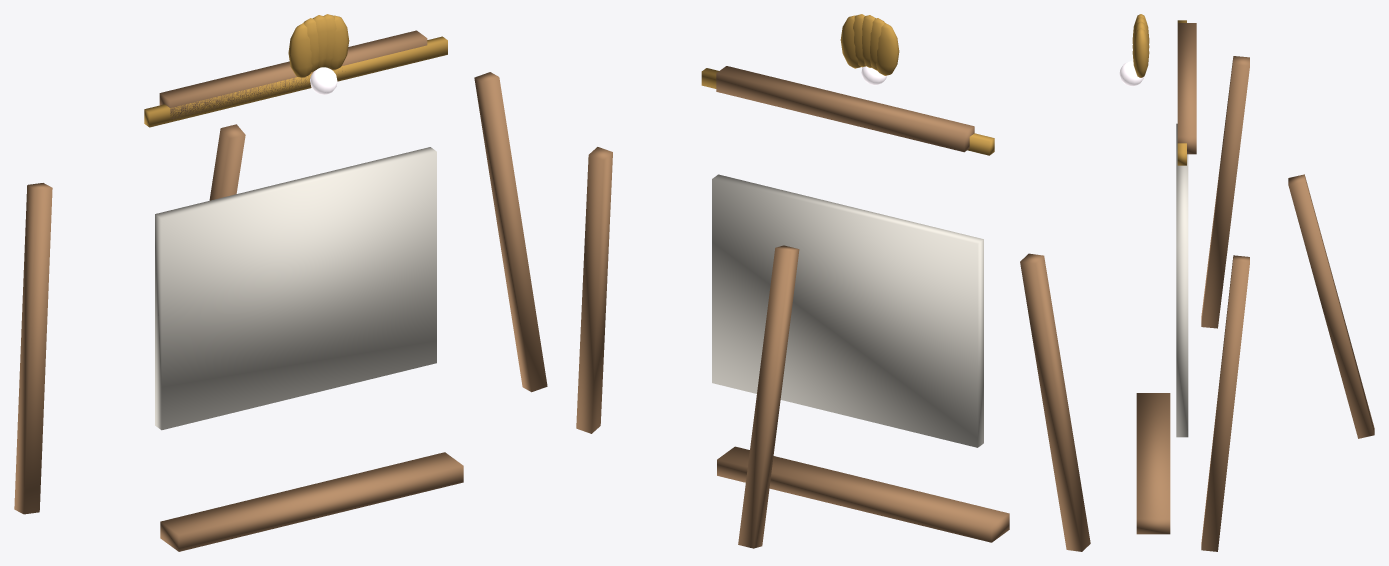
Rendered from opera_painter_easel.glb.
The picture shows the model from 3 angles, left to right: view 1: azimuth 30°, elevation 25°; view 2: azimuth 150°, elevation 25°; view 3: azimuth 270°, elevation 25°; orthographic projection. The views are drawn at different scales.
Visible parts, largest first — view 1: VisualMesh.003; view 2: VisualMesh.003; view 3: VisualMesh.003.
Boxes of the visible parts, <box> form: VisualMesh.003: <box>14,14,547,551</box>; VisualMesh.003: <box>576,14,1090,551</box>; VisualMesh.003: <box>1119,14,1374,551</box>.
Size of the model in its own units: 5.71 by 5.21 by 2.65.
